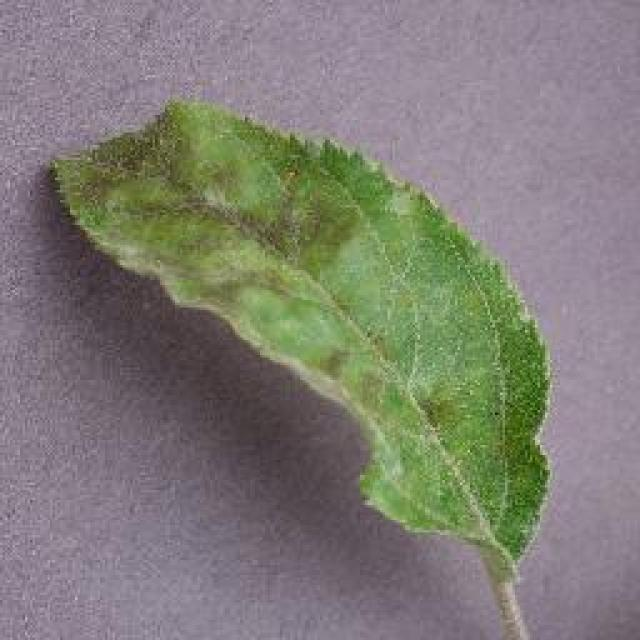apple scab disease: (47, 93, 555, 585)
